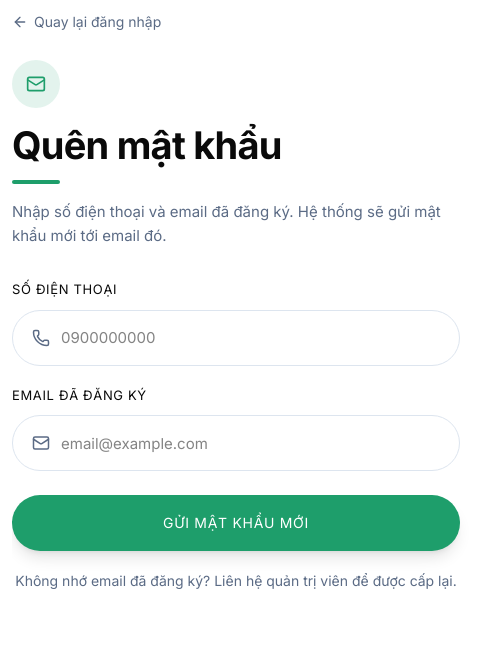
Test case: ForgotPasswordForm › bỏ trống số điện thoại hoặc email — chặn submit, không gọi mutate
Click the button "Gửi mật khẩu mới".
click(236, 523)  # box [12, 495, 460, 551]
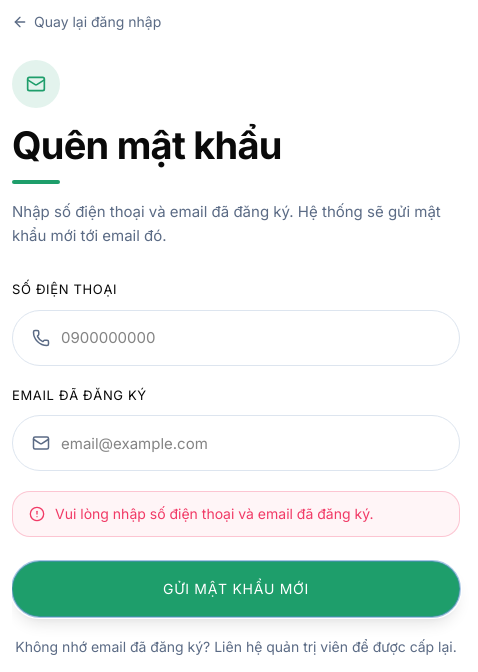
Expected: the text "Vui lòng nhập số điện thoại và email đã đăng ký." is shown, [55, 504, 374, 524]
